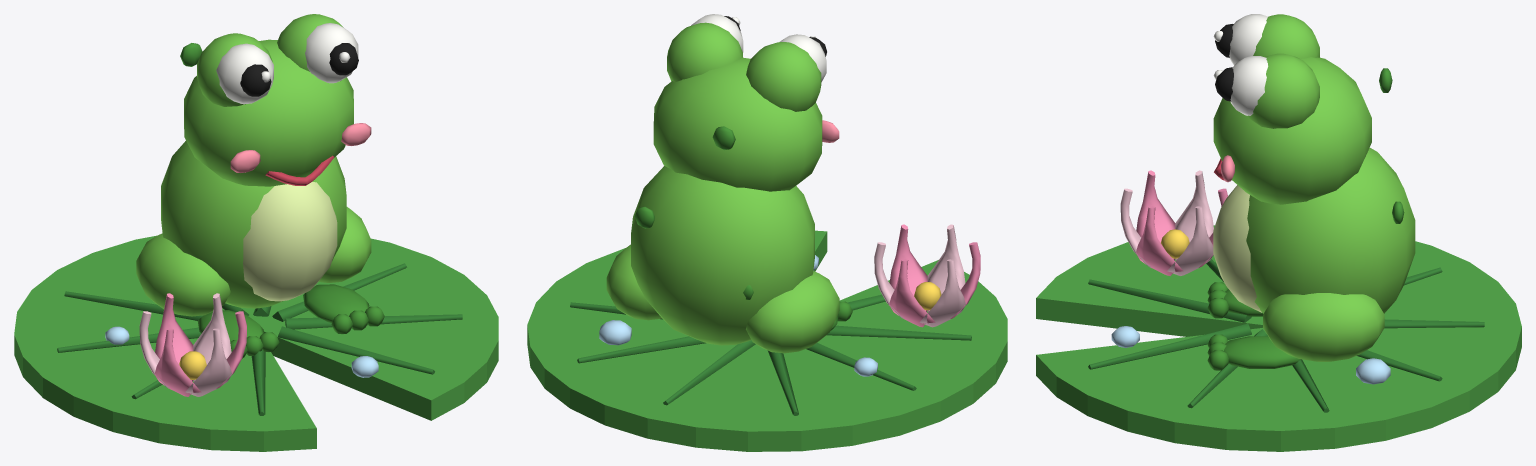
Rendered from FrogBobber.glb.
3 renders of one model, left to right at view 1: azimuth 30°, elevation 25°; view 2: azimuth 150°, elevation 25°; view 3: azimuth 270°, elevation 25°, orthographic. The views are drawn at different scales.
Visible parts, largest first — view 1: FrogBobber__LilyPad, FrogBobber__Frog, FrogBobber__FrogBelly, FrogBobber__LilyDark, FrogBobber__FrogDark, FrogBobber__EyeWhite, FrogBobber__LotusLight, FrogBobber__Lotus, FrogBobber__Eye, FrogBobber__Cheek, FrogBobber__Drop, FrogBobber__Mouth (+1 smaller); view 2: FrogBobber__Frog, FrogBobber__LilyPad, FrogBobber__LilyDark, FrogBobber__LotusLight, FrogBobber__Lotus, FrogBobber__EyeWhite, FrogBobber__FrogDark, FrogBobber__Drop, FrogBobber__LotusCore; view 3: FrogBobber__LilyPad, FrogBobber__Frog, FrogBobber__LilyDark, FrogBobber__FrogDark, FrogBobber__FrogBelly, FrogBobber__LotusLight, FrogBobber__EyeWhite, FrogBobber__Lotus, FrogBobber__Drop, FrogBobber__Eye, FrogBobber__LotusCore.
Part boxes in pixels (x1=…): FrogBobber__LilyPad: x1=14, y1=235, x2=498, y2=451; FrogBobber__Frog: x1=136, y1=14, x2=371, y2=316; FrogBobber__FrogBelly: x1=243, y1=181, x2=337, y2=301; FrogBobber__LilyDark: x1=57, y1=263, x2=462, y2=415; FrogBobber__FrogDark: x1=180, y1=43, x2=384, y2=358; FrogBobber__EyeWhite: x1=216, y1=23, x2=358, y2=104; FrogBobber__LotusLight: x1=139, y1=293, x2=231, y2=396; FrogBobber__Lotus: x1=154, y1=293, x2=246, y2=396; FrogBobber__Eye: x1=240, y1=43, x2=358, y2=96; FrogBobber__Cheek: x1=230, y1=123, x2=371, y2=172; FrogBobber__Drop: x1=105, y1=326, x2=378, y2=377; FrogBobber__Mouth: x1=265, y1=155, x2=334, y2=185; FrogBobber__Frog: x1=606, y1=22, x2=839, y2=353; FrogBobber__LilyPad: x1=527, y1=230, x2=1007, y2=451; FrogBobber__LilyDark: x1=570, y1=294, x2=971, y2=415; FrogBobber__LotusLight: x1=874, y1=224, x2=965, y2=327; FrogBobber__Lotus: x1=889, y1=224, x2=980, y2=327; FrogBobber__EyeWhite: x1=691, y1=14, x2=826, y2=82; FrogBobber__FrogDark: x1=634, y1=126, x2=852, y2=330; FrogBobber__Drop: x1=599, y1=255, x2=877, y2=376; FrogBobber__LotusCore: x1=914, y1=282, x2=941, y2=310; FrogBobber__LilyPad: x1=1036, y1=225, x2=1521, y2=451; FrogBobber__Frog: x1=1213, y1=14, x2=1415, y2=361; FrogBobber__LilyDark: x1=1088, y1=259, x2=1484, y2=412; FrogBobber__FrogDark: x1=1207, y1=68, x2=1404, y2=370; FrogBobber__FrogBelly: x1=1213, y1=185, x2=1261, y2=312; FrogBobber__LotusLight: x1=1120, y1=170, x2=1213, y2=275; FrogBobber__EyeWhite: x1=1213, y1=14, x2=1268, y2=115; FrogBobber__Lotus: x1=1136, y1=170, x2=1227, y2=275; FrogBobber__Drop: x1=1111, y1=326, x2=1390, y2=384; FrogBobber__Eye: x1=1215, y1=24, x2=1233, y2=101; FrogBobber__LotusCore: x1=1161, y1=229, x2=1189, y2=258.
Bounding box in the file's own units: 0.5998 × 0.4283 × 0.5887.
